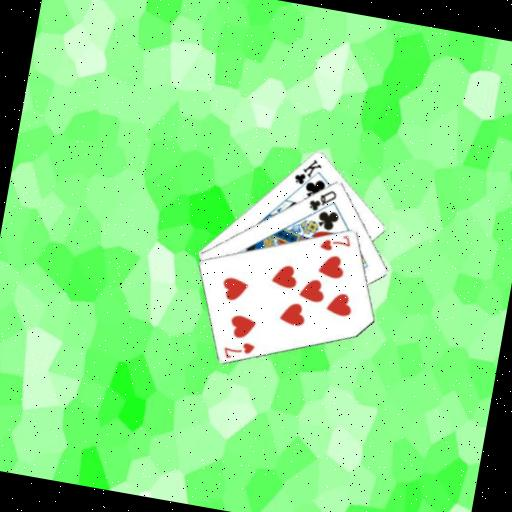7H: (218, 335, 257, 364), (316, 227, 353, 256)
KC: (289, 153, 324, 194)
QC: (305, 183, 339, 215)
